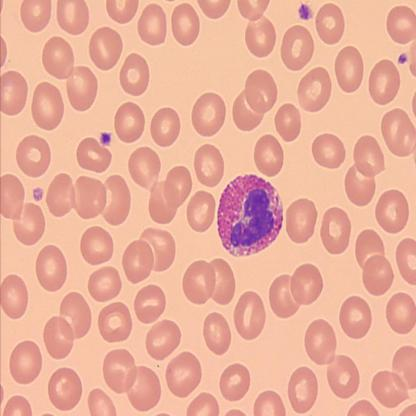Eosinophil: (216, 172, 284, 258)
